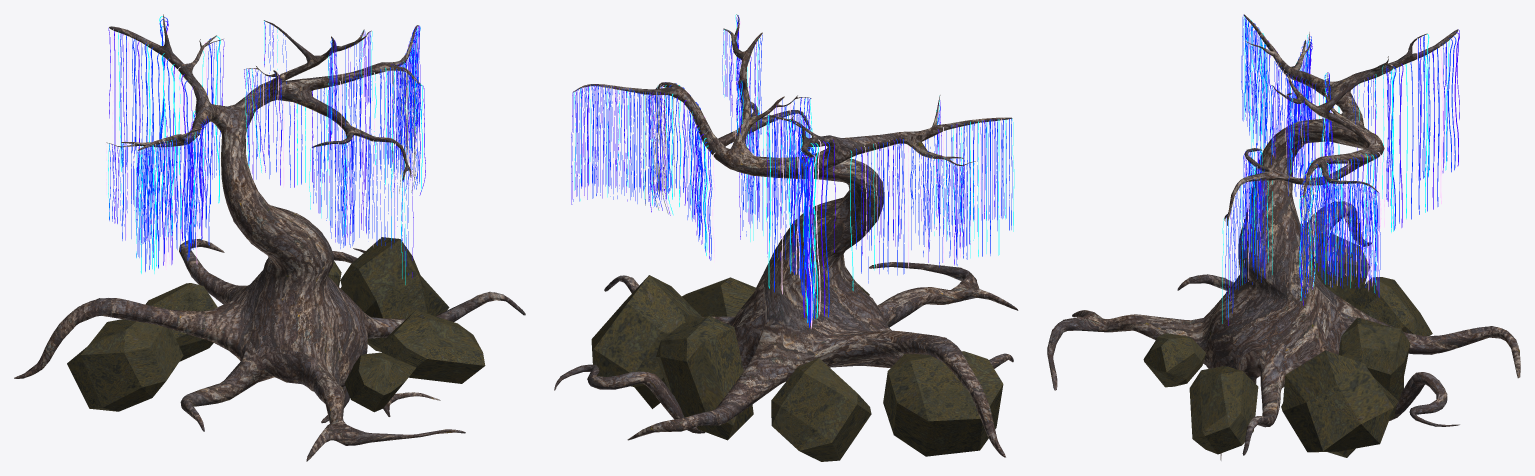
The model's file is eywa_lowPoly2c-v1.glb.
3 renders of one model, left to right at view 1: azimuth 30°, elevation 25°; view 2: azimuth 150°, elevation 25°; view 3: azimuth 270°, elevation 25°, orthographic. The views are drawn at different scales.
Visible parts, largest first — view 1: pCube752, pCube161, pCube87, Rock8, pCube90, Rock1, Rock3, pCube68, pCube53, Rock2, Rock7; view 2: pCube752, pCube87, pCube161, Rock8, pCube90, Rock6, Rock7, Rock1, pCube68, pCube53, Rock3; view 3: pCube752, pCube161, pCube87, Rock1, pCube90, Rock3, pCube68, pCube53, Rock6, Rock7, Rock8, Rock2.
Boxes of the visible parts, left/top/right/bottom form: pCube752: left=15, top=14, right=525, bottom=460; pCube161: left=14, top=21, right=524, bottom=461; pCube87: left=109, top=17, right=421, bottom=274; Rock8: left=67, top=319, right=183, bottom=411; pCube90: left=108, top=21, right=425, bottom=277; Rock1: left=340, top=237, right=449, bottom=351; Rock3: left=378, top=310, right=485, bottom=383; pCube68: left=108, top=16, right=422, bottom=284; pCube53: left=105, top=25, right=419, bottom=270; Rock2: left=344, top=352, right=416, bottom=412; Rock7: left=145, top=283, right=217, bottom=361; pCube752: left=554, top=14, right=1017, bottom=457; pCube87: left=572, top=15, right=1012, bottom=327; pCube161: left=557, top=23, right=1017, bottom=457; Rock8: left=883, top=351, right=1003, bottom=456; pCube90: left=571, top=16, right=994, bottom=326; Rock6: left=656, top=316, right=753, bottom=440; Rock7: left=771, top=358, right=871, bottom=461; Rock1: left=591, top=275, right=702, bottom=408; pCube68: left=574, top=14, right=1014, bottom=322; pCube53: left=574, top=20, right=1001, bottom=328; Rock3: left=682, top=277, right=755, bottom=316; pCube752: left=1047, top=14, right=1520, bottom=460; pCube161: left=1047, top=24, right=1520, bottom=454; pCube87: left=1225, top=15, right=1456, bottom=319; Rock1: left=1281, top=350, right=1398, bottom=457; pCube90: left=1228, top=26, right=1459, bottom=325; Rock3: left=1189, top=365, right=1258, bottom=454; pCube68: left=1222, top=16, right=1449, bottom=323; pCube53: left=1235, top=23, right=1455, bottom=293; Rock6: left=1338, top=317, right=1410, bottom=419; Rock7: left=1346, top=277, right=1432, bottom=336; Rock8: left=1300, top=223, right=1370, bottom=300; Rock2: left=1143, top=333, right=1206, bottom=387.
Size of what is drawn, in the model's own units: 86.02 by 67.67 by 80.15.
7 materials, 2 textured.
